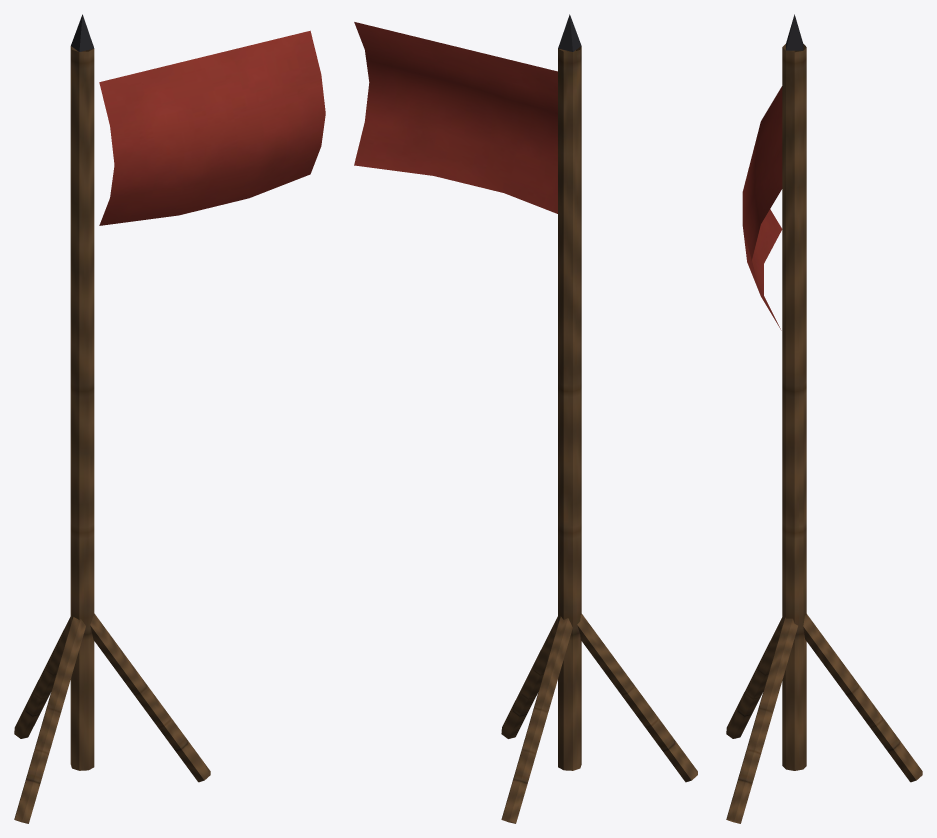
File: prop_vlagstandaard_red.glb
3 renders of one model, left to right at view 1: azimuth 30°, elevation 25°; view 2: azimuth 150°, elevation 25°; view 3: azimuth 270°, elevation 25°, orthographic.
Parts seen in each view (by area): view 1: prop_vlagstandaard_red; view 2: prop_vlagstandaard_red; view 3: prop_vlagstandaard_red.
Boxes of the visible parts, x1,y1,x2,y2 form: prop_vlagstandaard_red: (14,14,325,823); prop_vlagstandaard_red: (354,14,697,823); prop_vlagstandaard_red: (726,14,922,823).
Bounding box in the file's own units: 0.6054 × 1.39 × 0.3222.
1 material, 1 textured.
